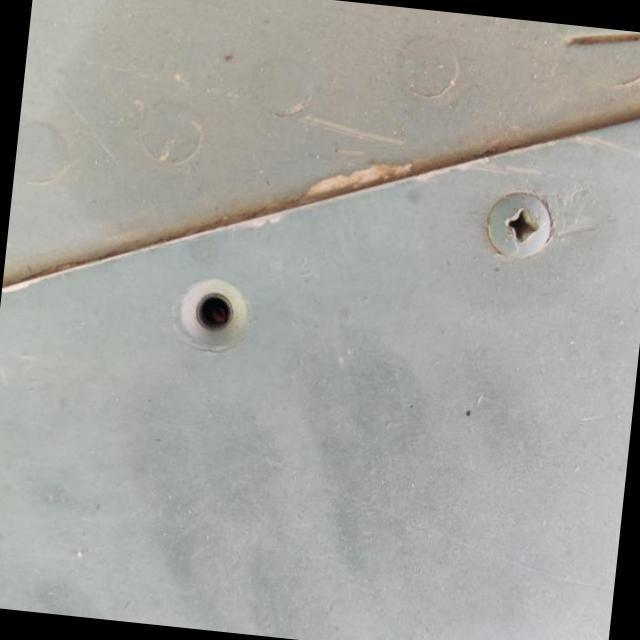Fastener Damage: (146, 257, 299, 397)
